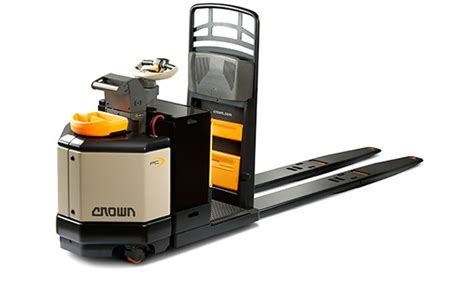Pallet Jack: (55, 2, 425, 265)
